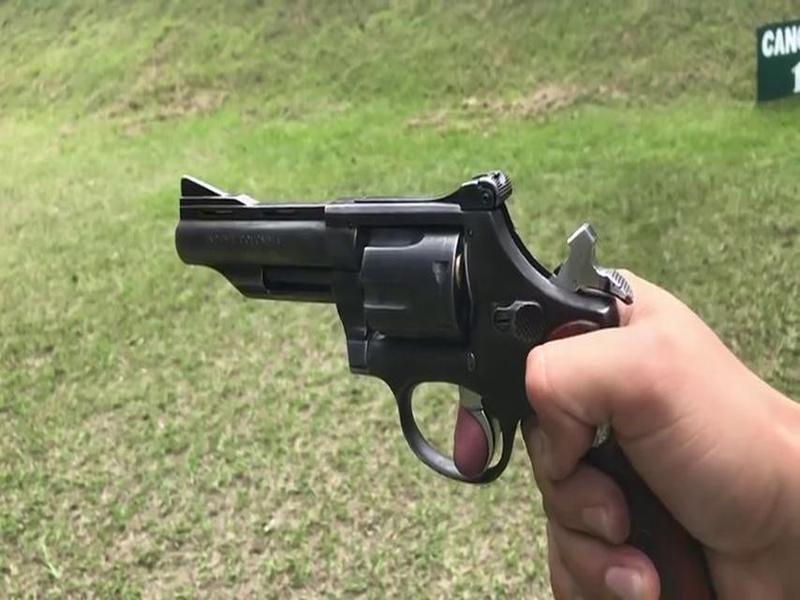Revolver: (157, 144, 666, 595)
